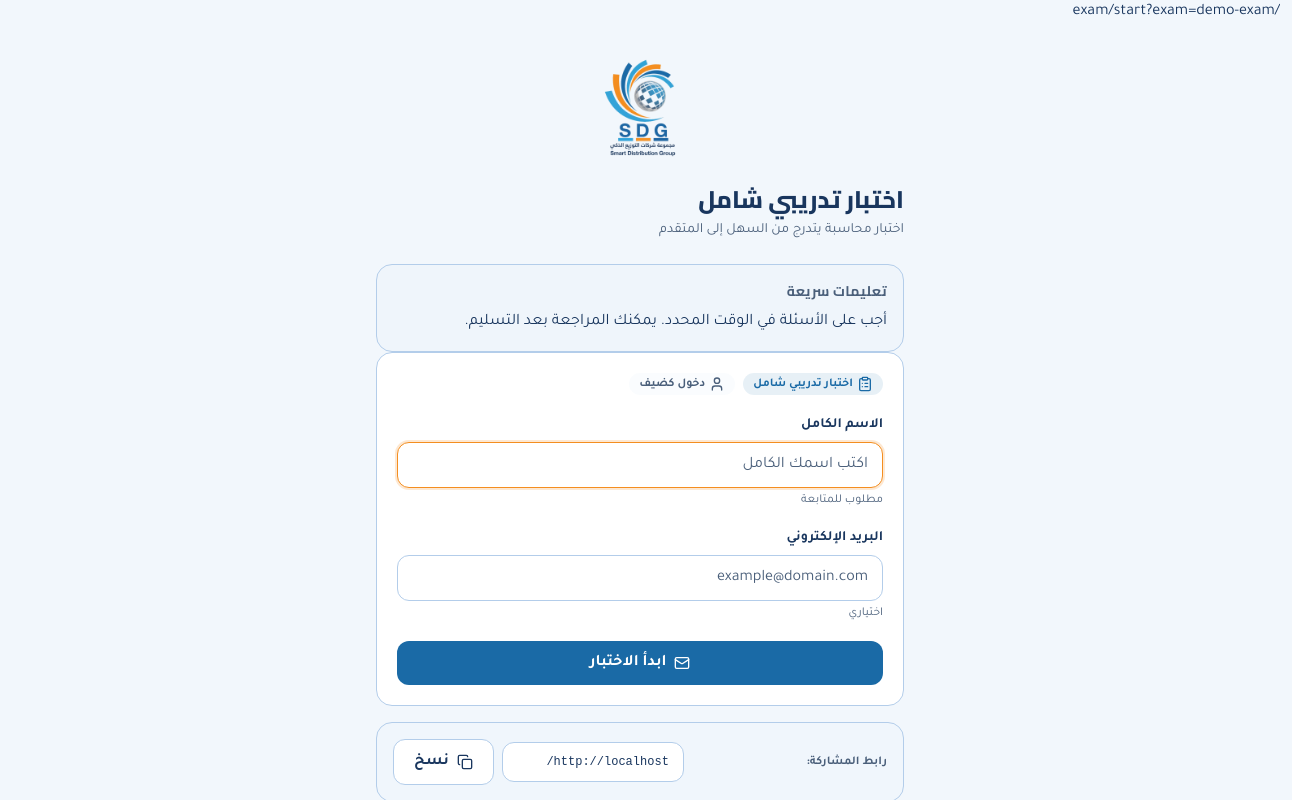
ExamStartPage — تدفق دخول المتقدم › لا ينشئ محاولة جديدة لمن أنهى الامتحان سابقًا عندما تكون إعادة المحاولة معطلة
The image size is (1292, 800).
Type "أحمد" into the field with placeholder "اكتب اسمك الكامل" at [640, 465], box [397,442,883,488]
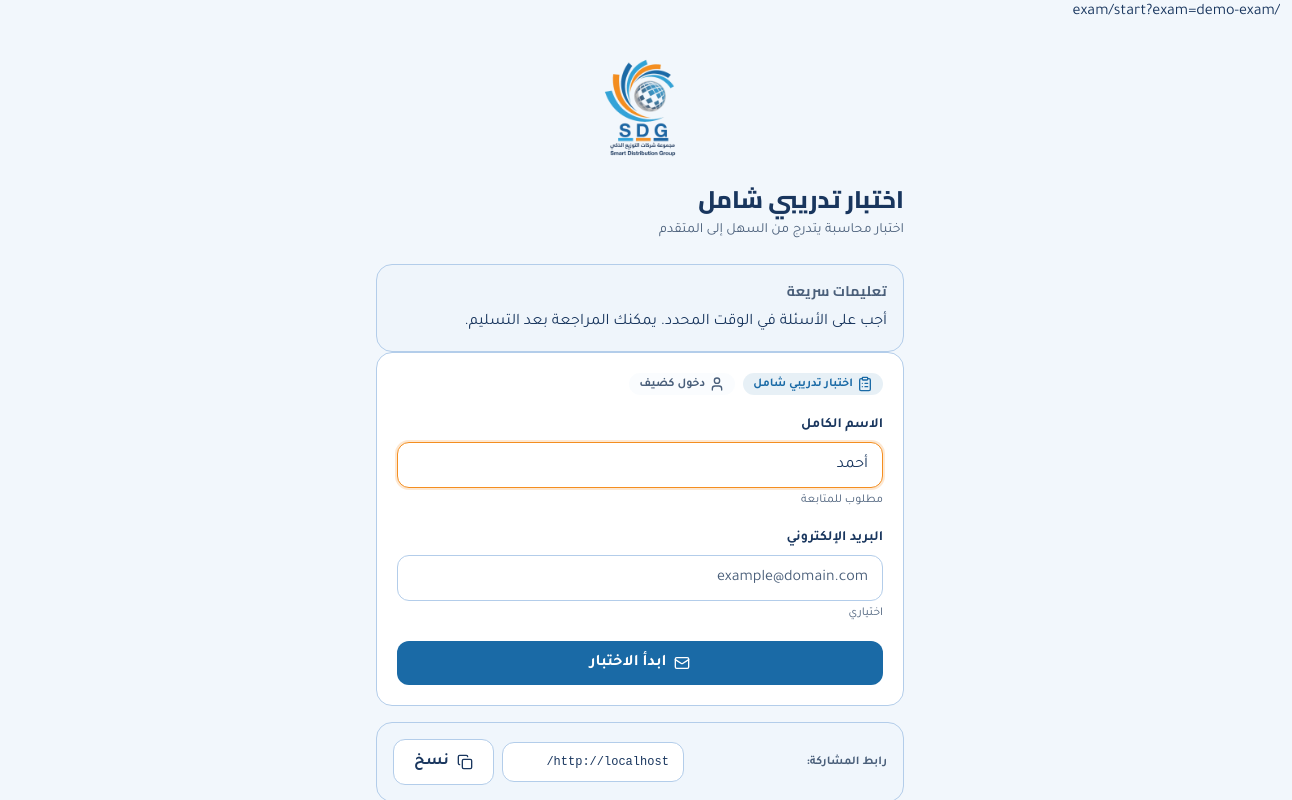
Click the button "ابدأ الاختبار" at [640, 663], box [397,641,883,685]
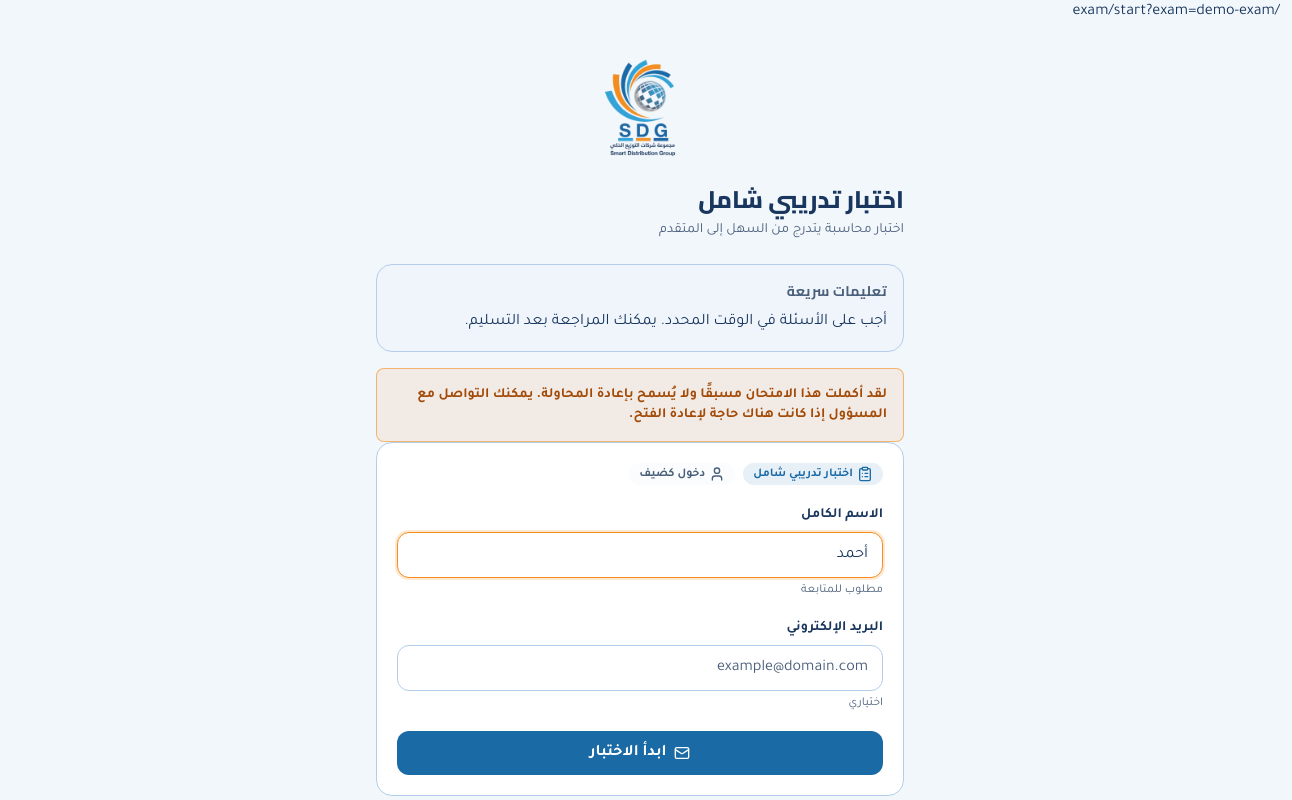
Expected: the text with test id "location" reads "/exam/start?exam=demo-exam", [1073,4,1280,20]
Expected: the message shows "لا يُسمح بإعادة المحاولة", [417,388,887,422]
